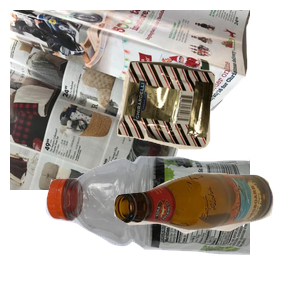glass: (111, 170, 300, 300)
paper: (10, 10, 250, 190)
plastic: (43, 152, 283, 300)
trash: (115, 58, 300, 200)
